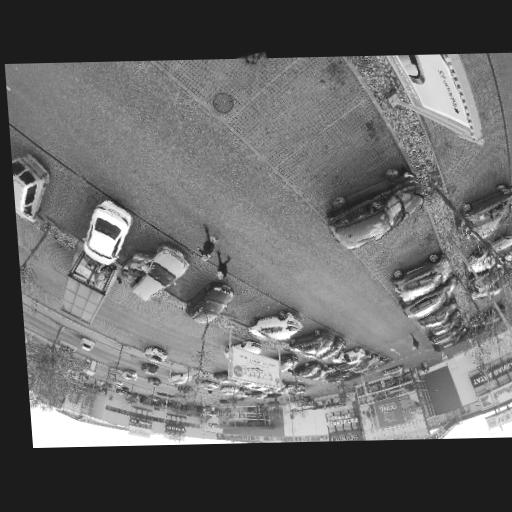busy: (322, 171, 432, 250), (125, 243, 196, 302), (82, 202, 140, 264), (458, 183, 512, 238), (11, 152, 53, 220), (389, 260, 454, 301), (183, 282, 241, 324), (250, 310, 305, 344), (399, 288, 453, 315), (289, 331, 336, 355), (415, 304, 462, 325), (425, 316, 462, 334), (334, 347, 368, 366), (291, 360, 325, 379), (314, 340, 346, 360), (142, 345, 172, 364), (167, 369, 193, 384), (200, 379, 223, 392), (142, 363, 161, 375), (122, 369, 139, 379), (148, 378, 163, 387)
free: (49, 171, 91, 236), (260, 88, 328, 127), (197, 55, 272, 87), (303, 137, 361, 175), (375, 228, 420, 257), (447, 130, 494, 154), (456, 164, 496, 189), (169, 311, 194, 335), (235, 300, 265, 317), (136, 296, 160, 317), (201, 324, 223, 343), (115, 330, 133, 345), (180, 351, 198, 365)
